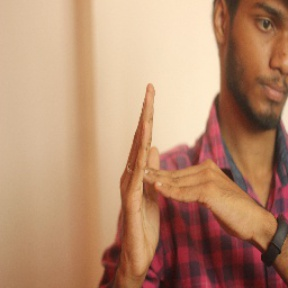Z: (110, 77, 251, 272)
